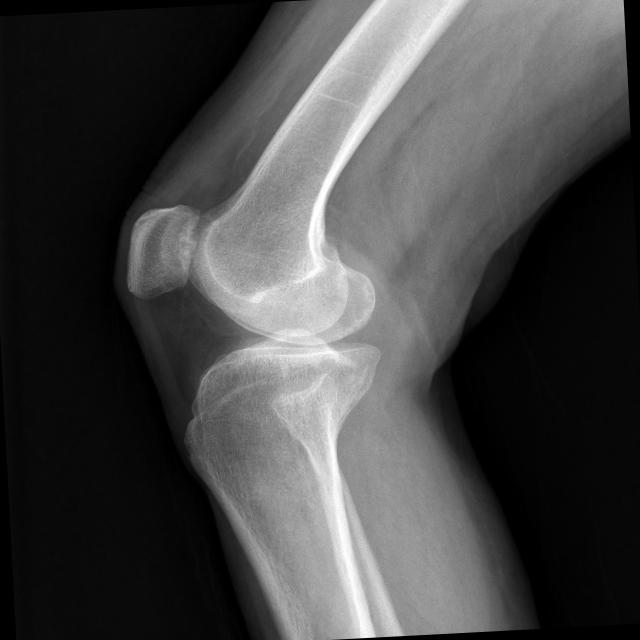Knee: (124, 190, 410, 439)
